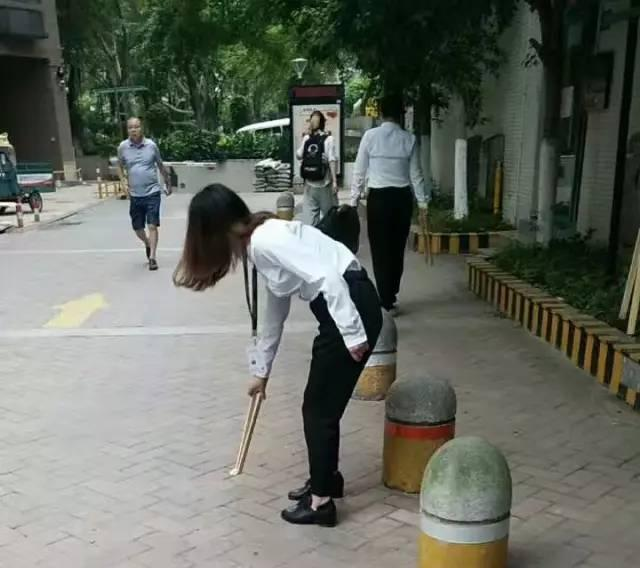bending: (179, 180, 387, 534)
up: (355, 98, 429, 317), (99, 110, 171, 280), (292, 106, 351, 223)
